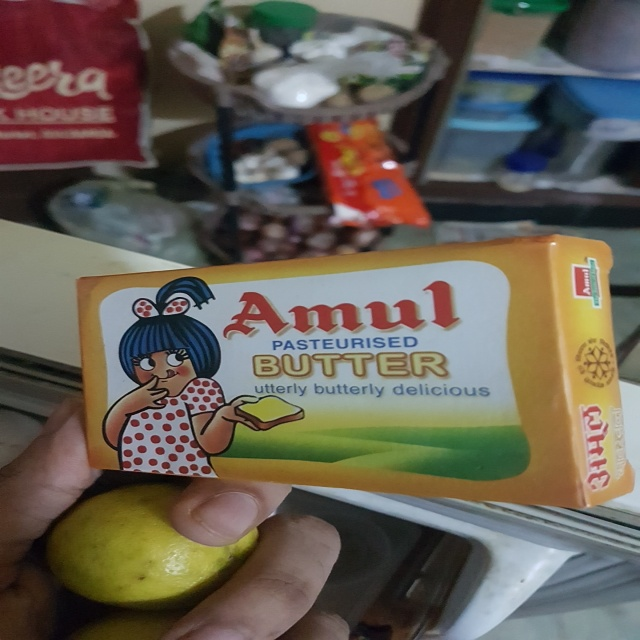butter: (79, 227, 635, 518)
lemon: (38, 485, 278, 613)
